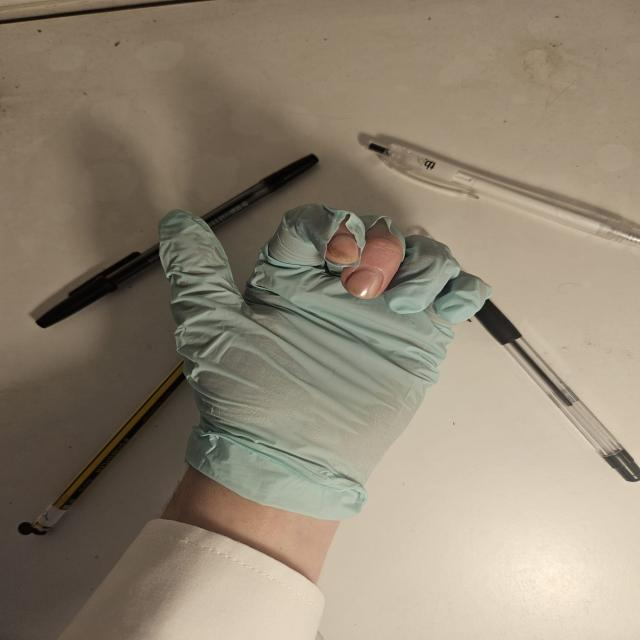gloves_damaged: (154, 202, 496, 520)
